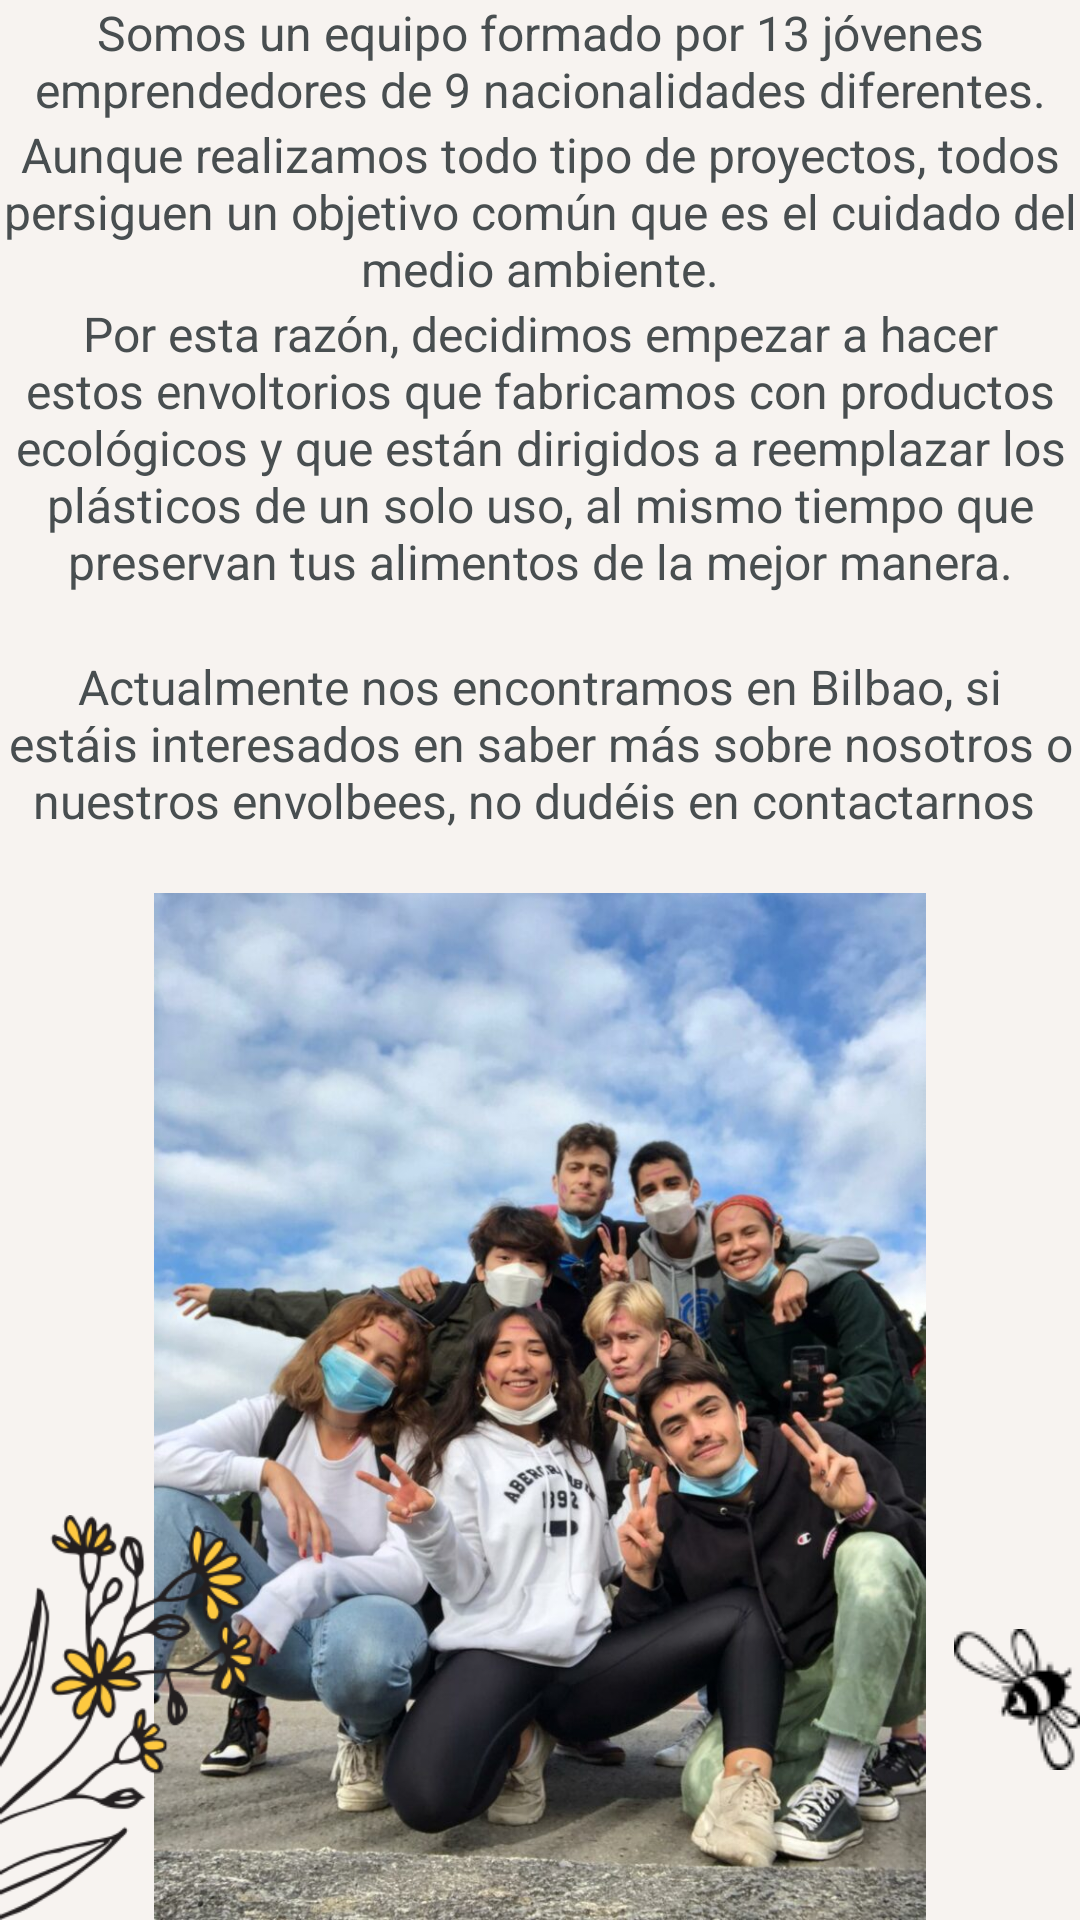

Icons on this 1080x1920 Android screen, each with the point to tap as [x,y]:
abejitanegra: [1017,1699]
